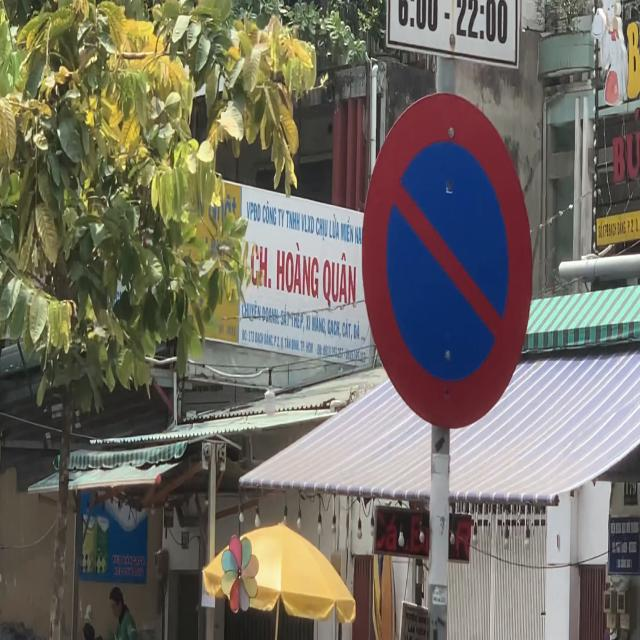Cam do: (360, 92, 535, 432)
